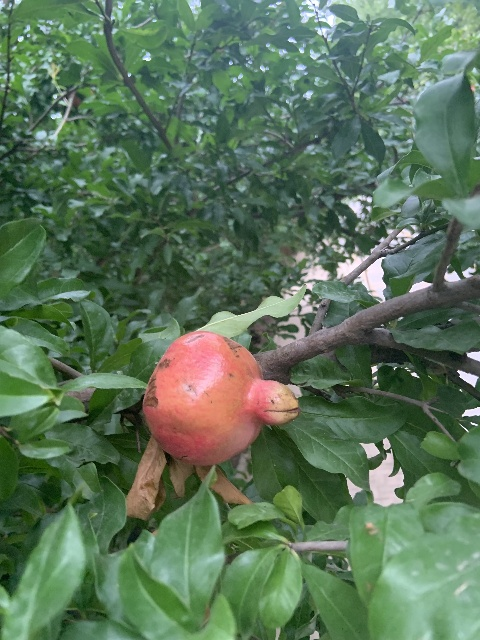ripe: (141, 330, 298, 466)
